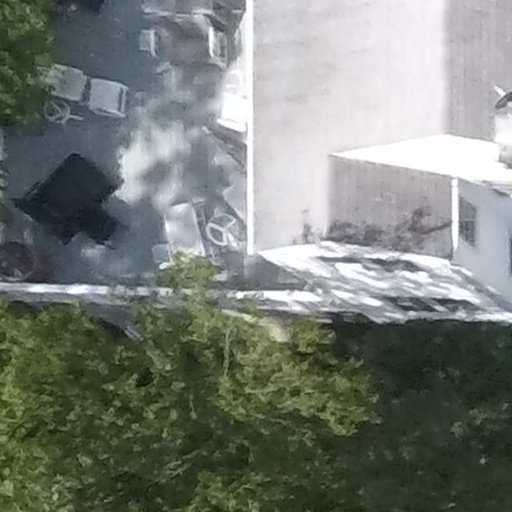chair: (152, 201, 214, 273)
porch: (1, 23, 250, 293)
table: (202, 213, 242, 250), (38, 93, 74, 132)
